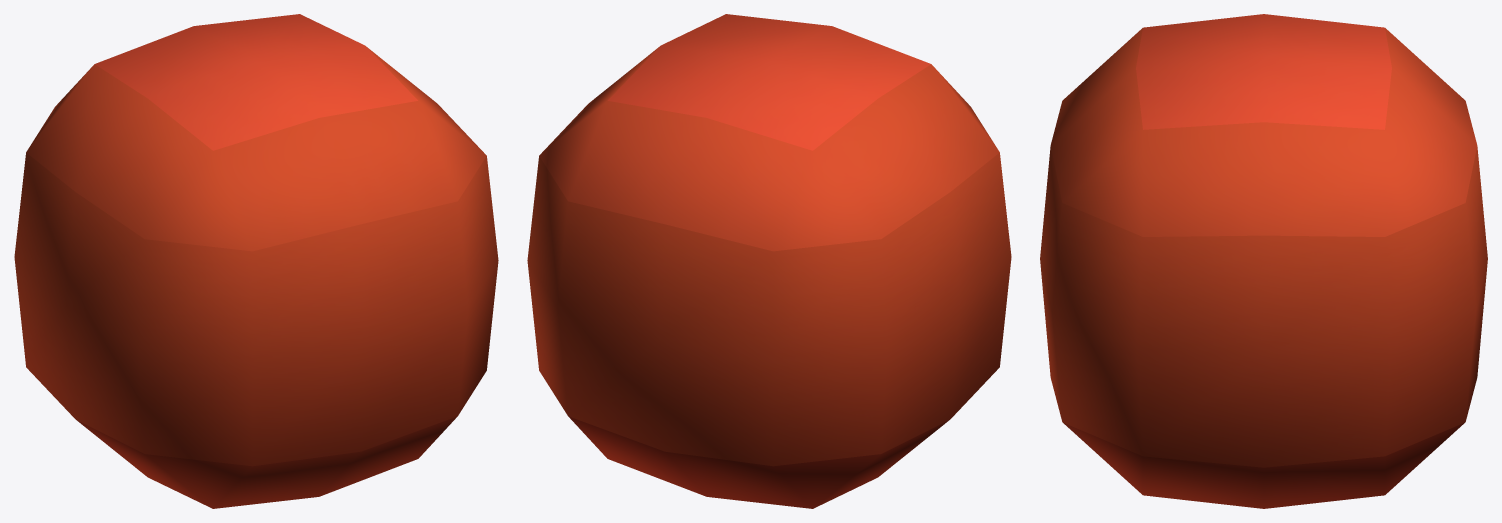
The model's file is ball_medium_small_red.fbx.
The picture shows the model from 3 angles, left to right: view 1: azimuth 30°, elevation 25°; view 2: azimuth 150°, elevation 25°; view 3: azimuth 270°, elevation 25°; orthographic projection. The views are drawn at different scales.
Visible parts, largest first — view 1: ball_medium_small_red; view 2: ball_medium_small_red; view 3: ball_medium_small_red.
Boxes of the visible parts, bbox=[...] form: ball_medium_small_red: bbox=[14, 14, 498, 508]; ball_medium_small_red: bbox=[527, 14, 1011, 508]; ball_medium_small_red: bbox=[1040, 14, 1487, 508].
Bounding box in the file's own units: 55.97 × 56.34 × 55.97.
1 material, 1 textured.
